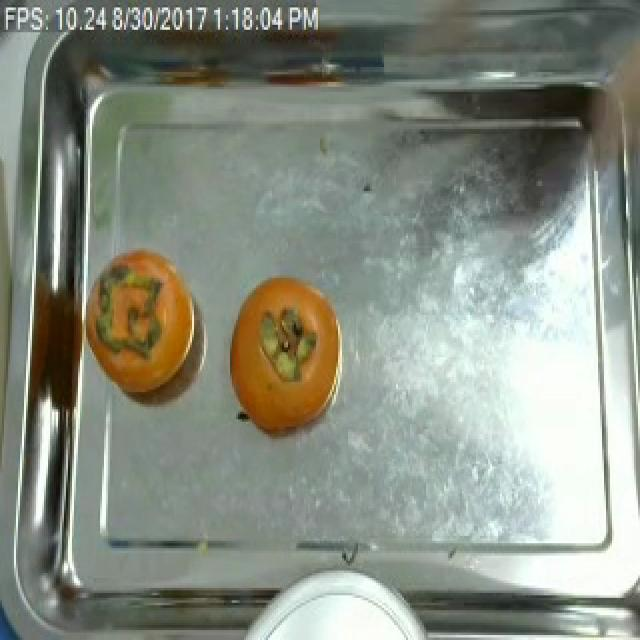Fruit: (220, 268, 346, 446), (90, 238, 204, 417)
